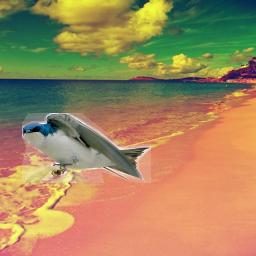Swallow: (22, 113, 151, 183)
